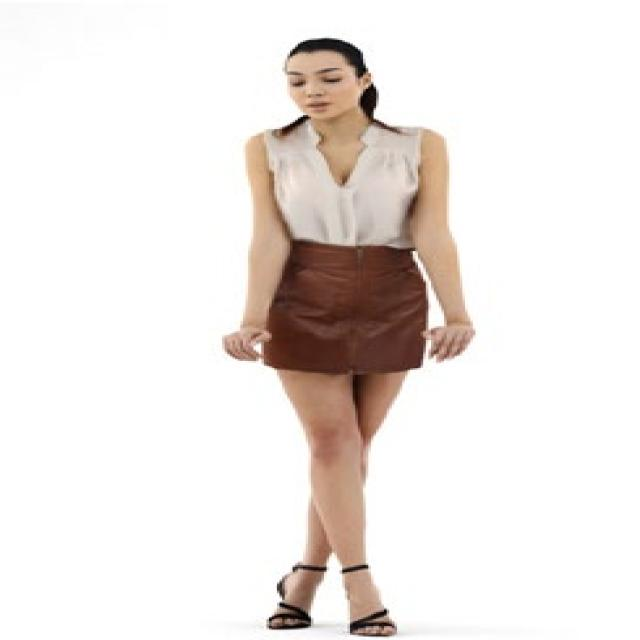standing: (222, 36, 477, 639)
